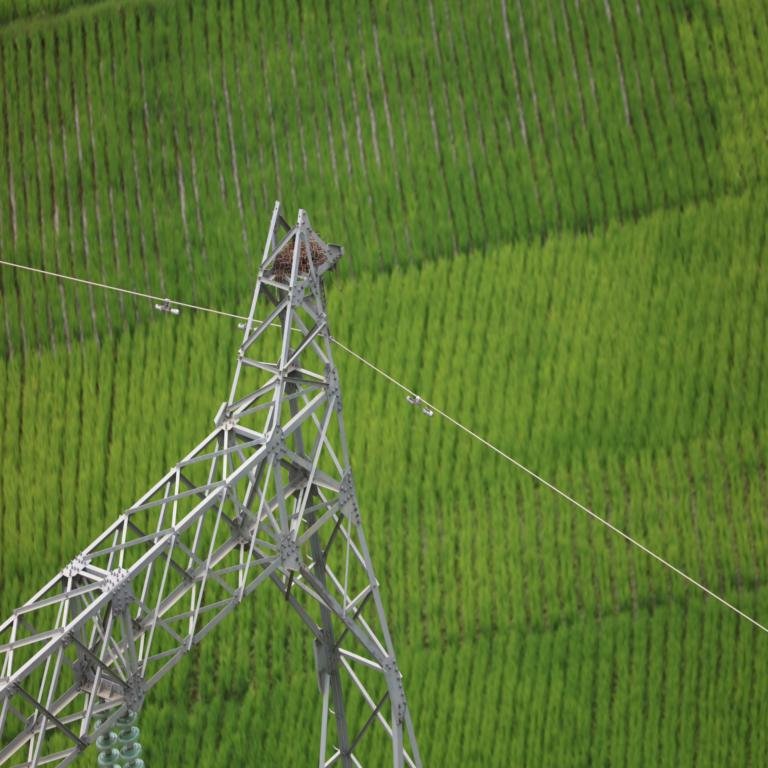nest: (276, 243, 319, 275)
